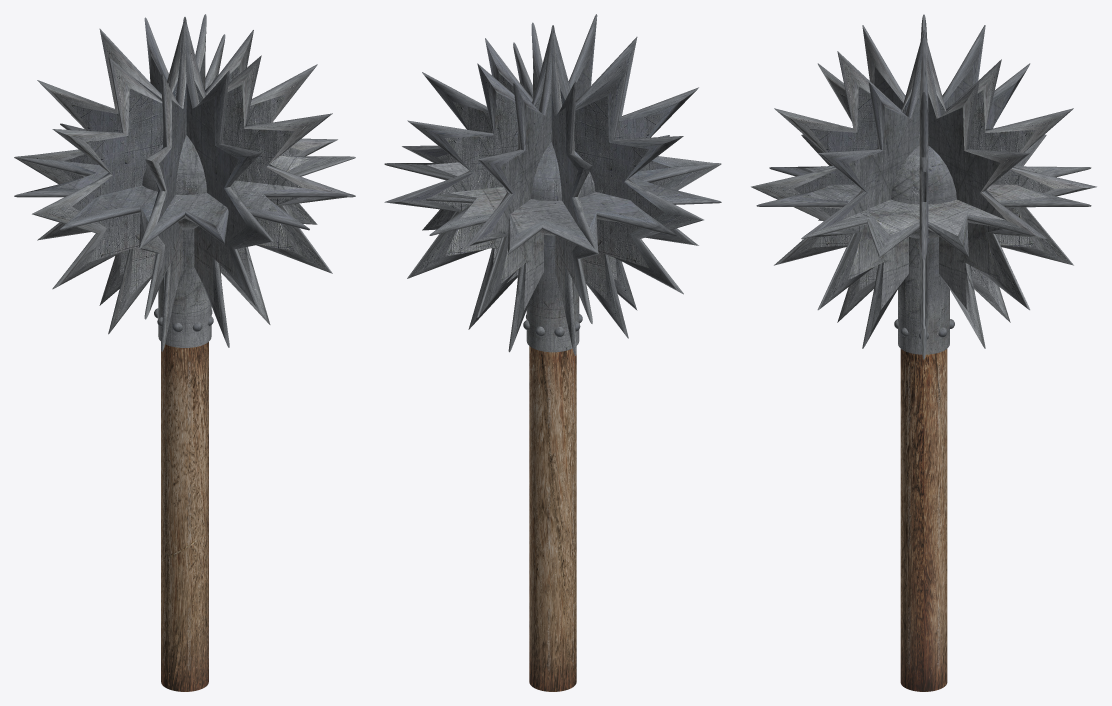
Rendered from Weapons-of-survival.fbx.
The picture shows the model from 3 angles, left to right: view 1: azimuth 30°, elevation 25°; view 2: azimuth 150°, elevation 25°; view 3: azimuth 270°, elevation 25°; orthographic projection.
Visible parts, largest first — view 1: Arme01; view 2: Arme01; view 3: Arme01.
Boxes of the visible parts, left/top/right/bottom form: Arme01: left=14, top=14, right=355, bottom=691; Arme01: left=384, top=14, right=721, bottom=691; Arme01: left=751, top=14, right=1096, bottom=691.
Size of the model in its own units: 400 by 830 by 400.
Materials: 2 (2 with a texture image).
